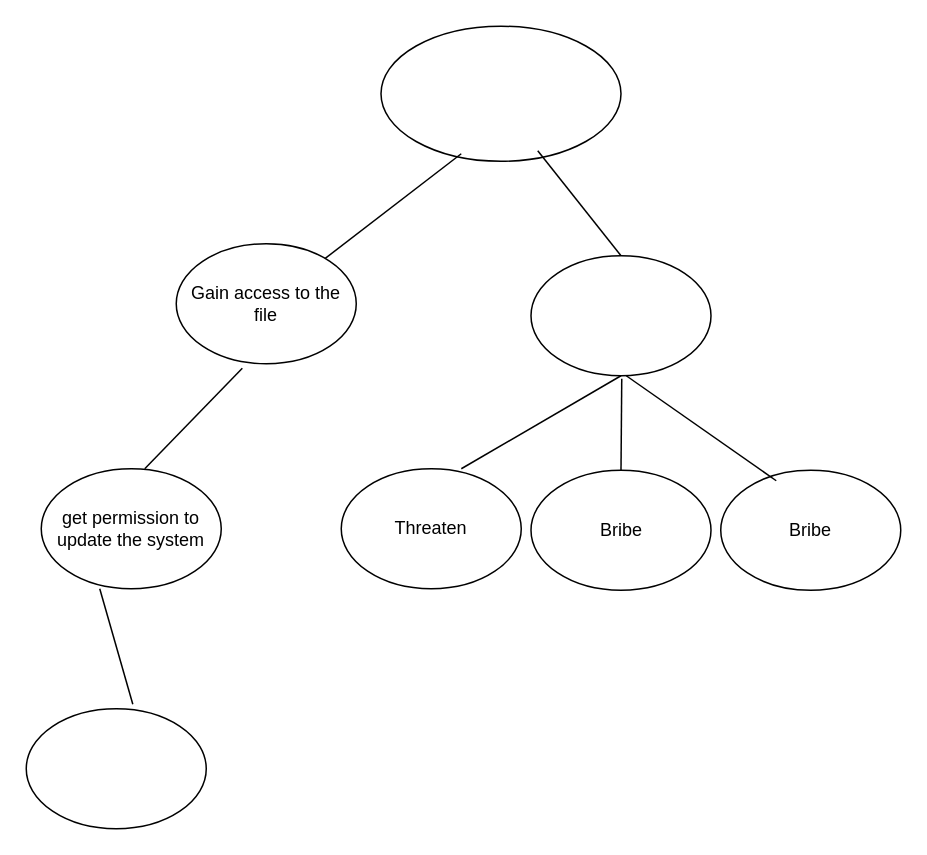
Image size: 927x855. Some labels were removed from this diagram. The shapes that lost their labels are listed below. From the top down, each one's box as (x1, y1, x2, y2) in pixels, then its label:
(380, 25, 621, 161): False Doctor's availability and schedule information update
(530, 254, 711, 376): Gain access from the person in-charge
(25, 707, 206, 829): Find the location of the file
